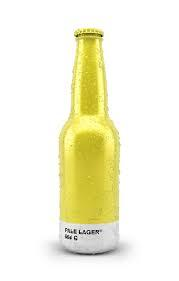Glass bottle: (53, 27, 131, 256)
